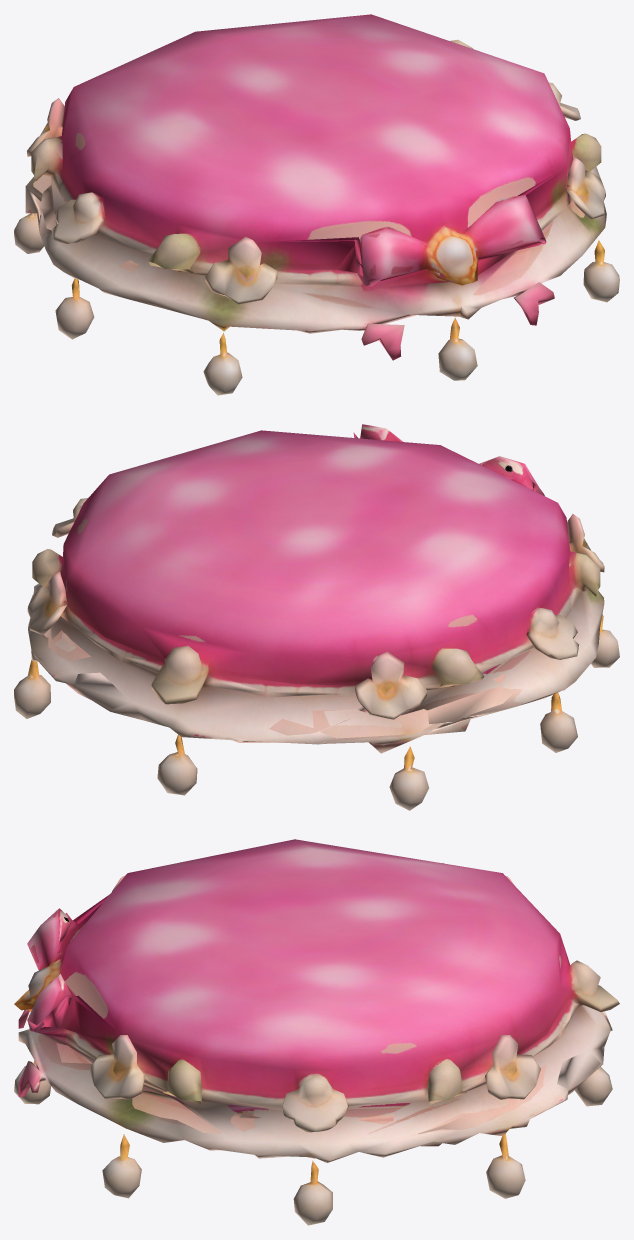
3 renders of one model, top to bottom at view 1: azimuth 30°, elevation 25°; view 2: azimuth 150°, elevation 25°; view 3: azimuth 270°, elevation 25°, orthographic.
Parts seen in each view (by area): view 1: tripo_node_f9d4eb22; view 2: tripo_node_f9d4eb22; view 3: tripo_node_f9d4eb22.
Boxes of the visible parts, bbox=[...] form: tripo_node_f9d4eb22: bbox=[14, 14, 619, 395]; tripo_node_f9d4eb22: bbox=[14, 424, 619, 810]; tripo_node_f9d4eb22: bbox=[14, 839, 619, 1225].
Size of the model in its own units: 0.9961 by 0.3268 by 0.9922.
Materials: 1 (1 with a texture image).
